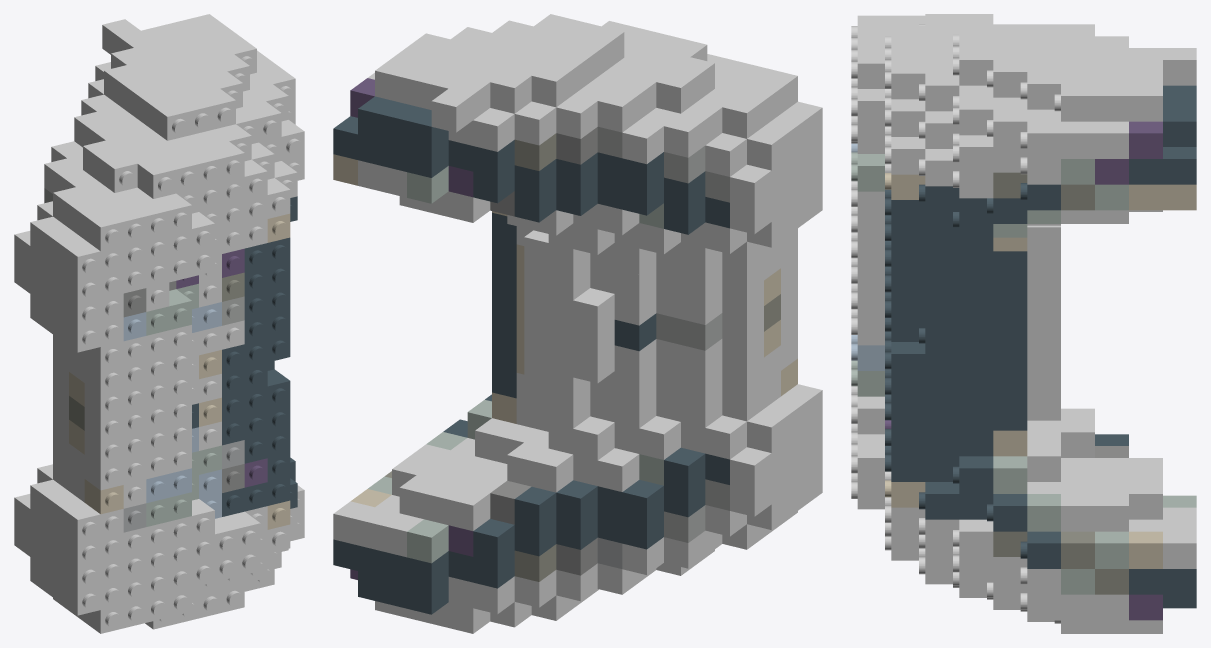
The model's file is full.glb.
The picture shows the model from 3 angles, left to right: view 1: azimuth 30°, elevation 25°; view 2: azimuth 150°, elevation 25°; view 3: azimuth 270°, elevation 25°; orthographic projection. The views are drawn at different scales.
Visible parts, largest first — view 1: world; view 2: world; view 3: world.
Boxes of the visible parts, bbox=[...] form: world: bbox=[14, 14, 304, 633]; world: bbox=[333, 14, 822, 633]; world: bbox=[851, 14, 1196, 633].
Bounding box in the file's own units: 104 × 168 × 97.8.
